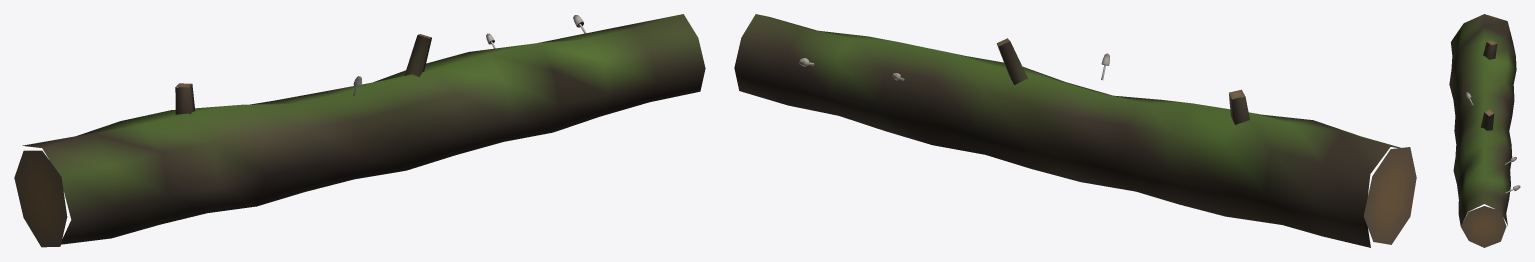
The model's file is log-mossy-a.lod1.glb.
3 renders of one model, left to right at view 1: azimuth 30°, elevation 25°; view 2: azimuth 150°, elevation 25°; view 3: azimuth 270°, elevation 25°, orthographic. The views are drawn at different scales.
Bounding box in the file's own units: 4.04 × 0.7827 × 0.6829.
